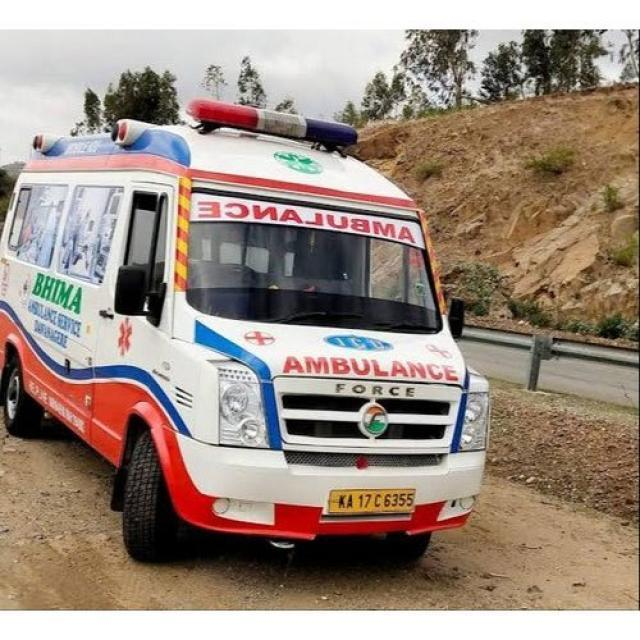Ambulance: (192, 191, 422, 256), (277, 349, 467, 386)
